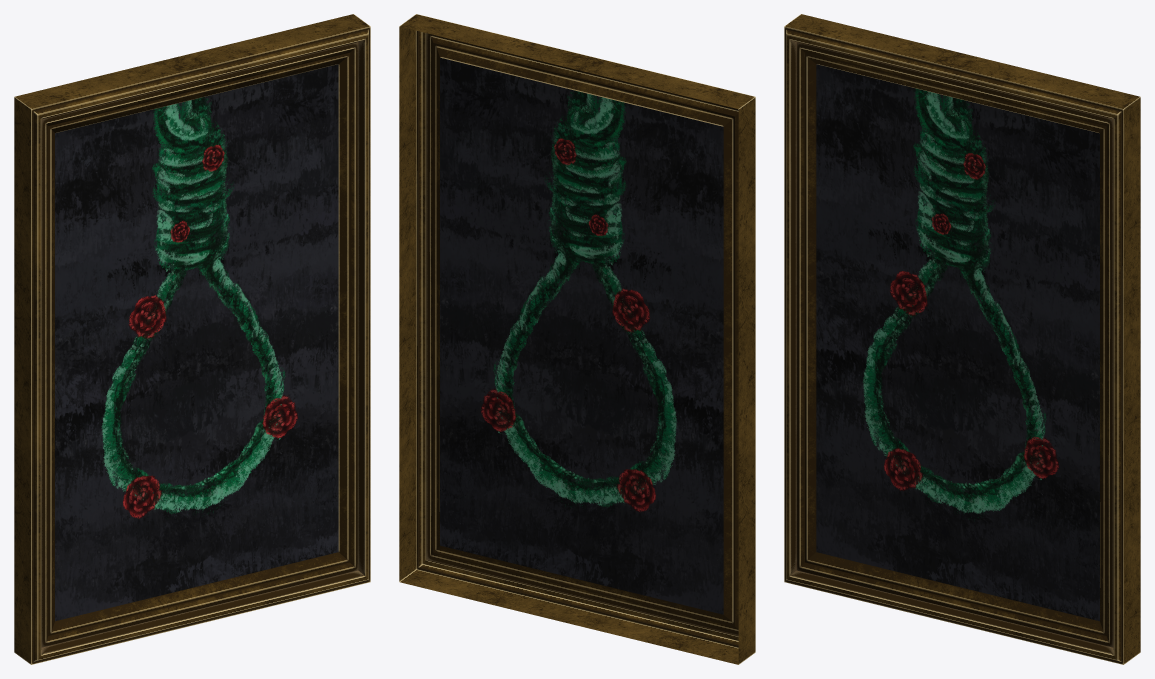
The model's file is painting-portrait-5.fbx.
3 views of the same model, side by side, from view 1: azimuth 30°, elevation 25°; view 2: azimuth 150°, elevation 25°; view 3: azimuth 330°, elevation 25° (orthographic).
Visible parts, largest first — view 1: painting_Var2_5; view 2: painting_Var2_5; view 3: painting_Var2_5.
Part boxes in pixels (box(x1,y1,x2,y2)): painting_Var2_5: box(14, 14, 370, 664); painting_Var2_5: box(399, 14, 755, 664); painting_Var2_5: box(784, 14, 1140, 664).
Bounding box in the file's own units: 59.07 × 92.39 × 5.86.
2 materials, 2 textured.
